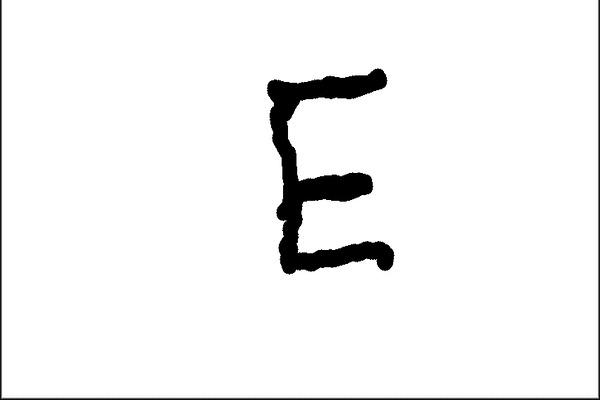E: (261, 65, 403, 277)
